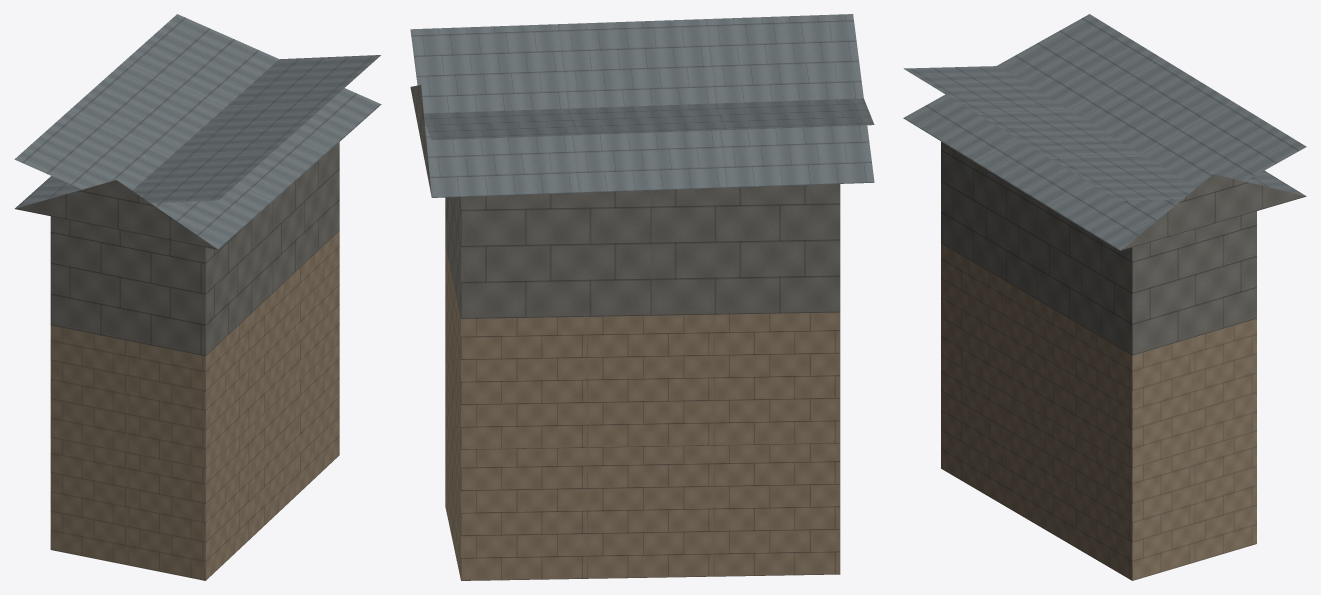
The model's file is bld_c23_-49_523.gltf.
3 renders of one model, left to right at view 1: azimuth 30°, elevation 25°; view 2: azimuth 150°, elevation 25°; view 3: azimuth 270°, elevation 25°, orthographic. The views are drawn at different scales.
Visible parts, largest first — view 1: bld_c23_-49_523; view 2: bld_c23_-49_523; view 3: bld_c23_-49_523.
Boxes of the visible parts, x1=… form: bld_c23_-49_523: x1=14, y1=14, x2=381, y2=580; bld_c23_-49_523: x1=410, y1=14, x2=874, y2=580; bld_c23_-49_523: x1=903, y1=14, x2=1306, y2=580.
Size of the model in its own units: 8.09 by 8 by 7.37.
Materials: 4 (4 with a texture image).
